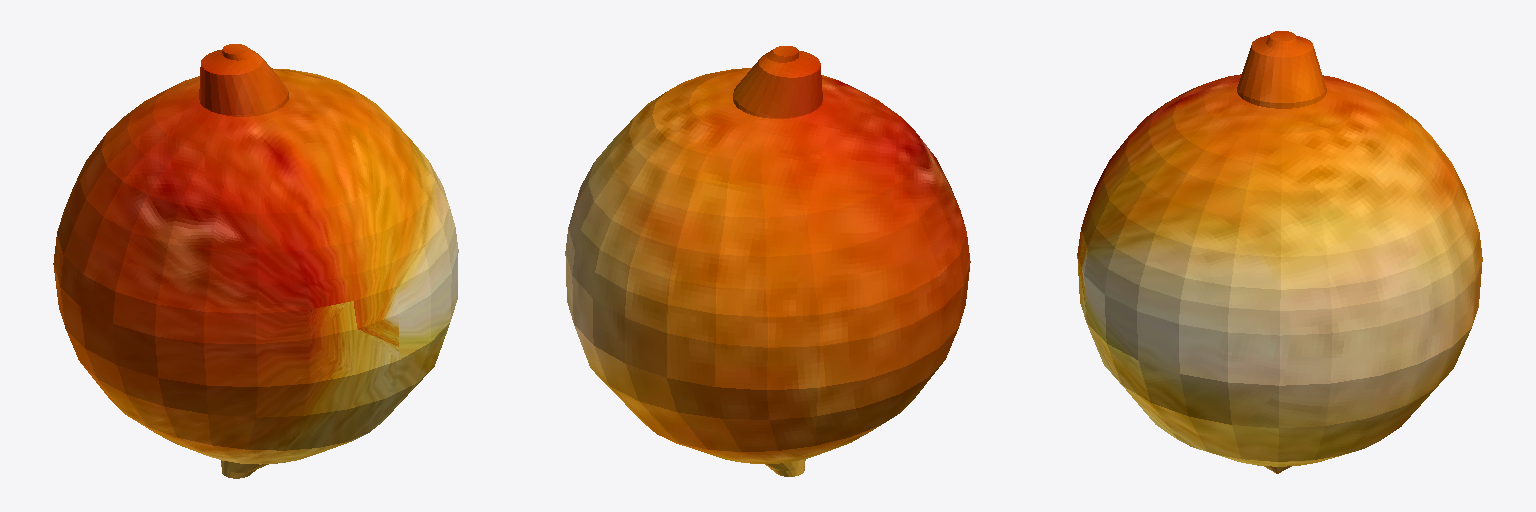
3 renders of one model, left to right at view 1: azimuth 30°, elevation 25°; view 2: azimuth 150°, elevation 25°; view 3: azimuth 270°, elevation 25°, orthographic.
Visible parts, largest first — view 1: pomegranate; view 2: pomegranate; view 3: pomegranate.
Part boxes in pixels (left/top/right/bottom): pomegranate: left=53, top=44, right=458, bottom=478; pomegranate: left=565, top=46, right=970, bottom=476; pomegranate: left=1077, top=31, right=1482, bottom=473.
Bounding box in the file's own units: 3.13 × 3.59 × 3.13.
1 materials, 1 textured.